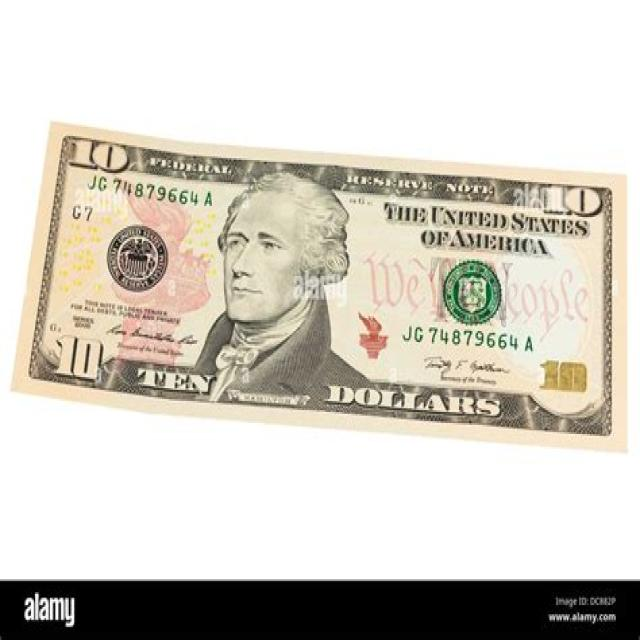Ten: (8, 120, 629, 453)
